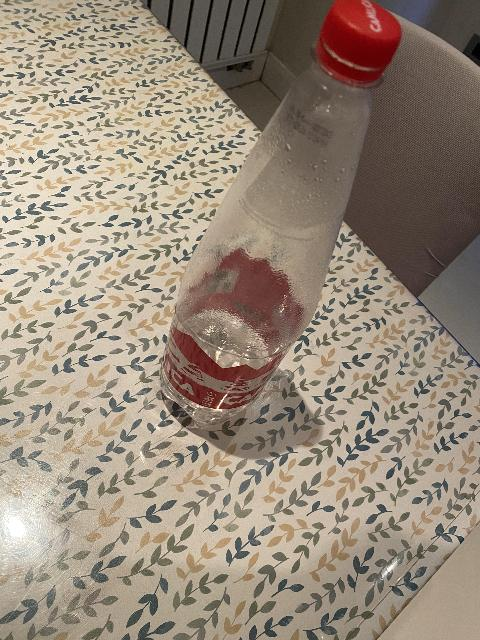Plastik: (160, 87, 383, 425), (325, 0, 400, 78), (183, 351, 256, 414)
